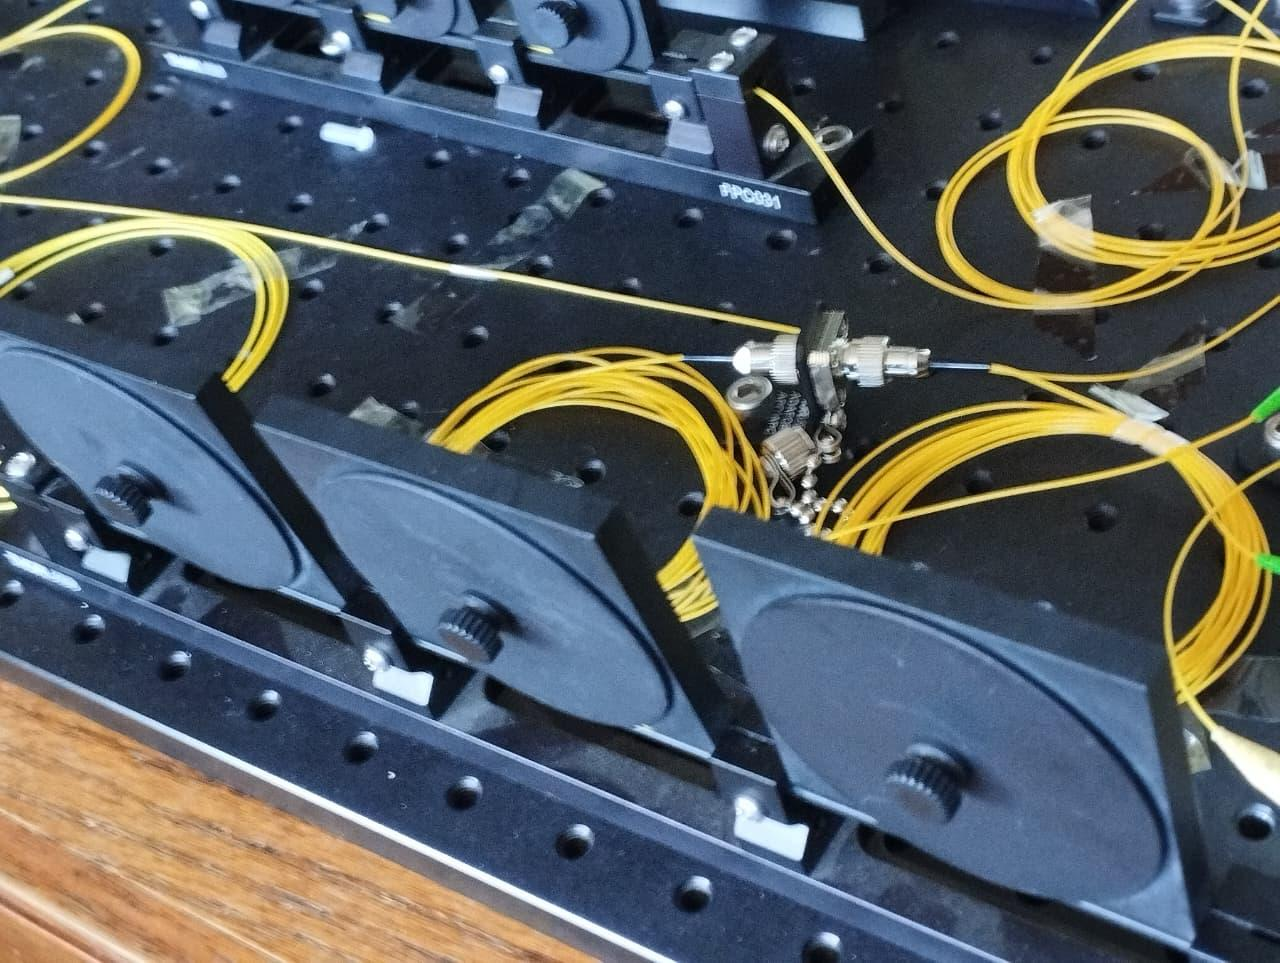fiber_cable: (816, 357, 1280, 685), (412, 320, 783, 659), (935, 9, 1280, 327)
paddle_polarization_controller: (0, 301, 1279, 962), (142, 0, 914, 248)
